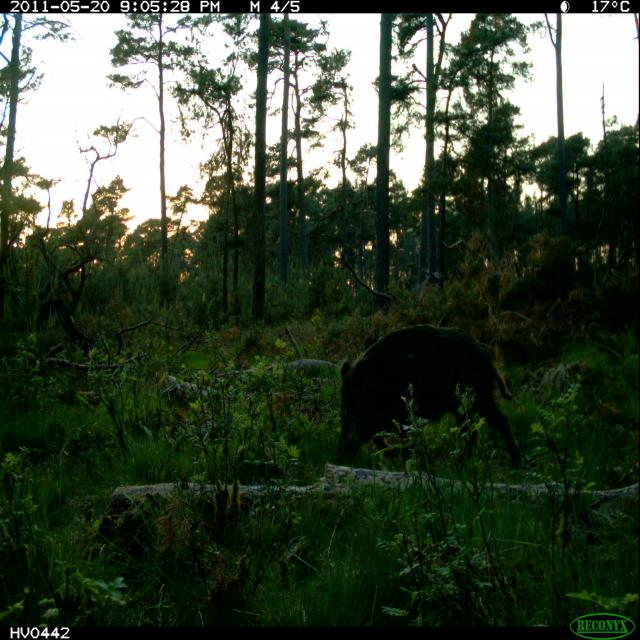boar: (304, 294, 497, 480)
